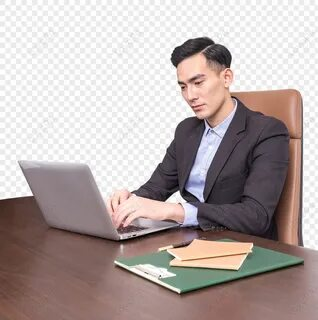awake: (107, 35, 291, 233)
